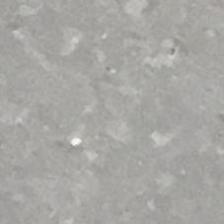Non_Crack: (32, 40, 164, 224)
